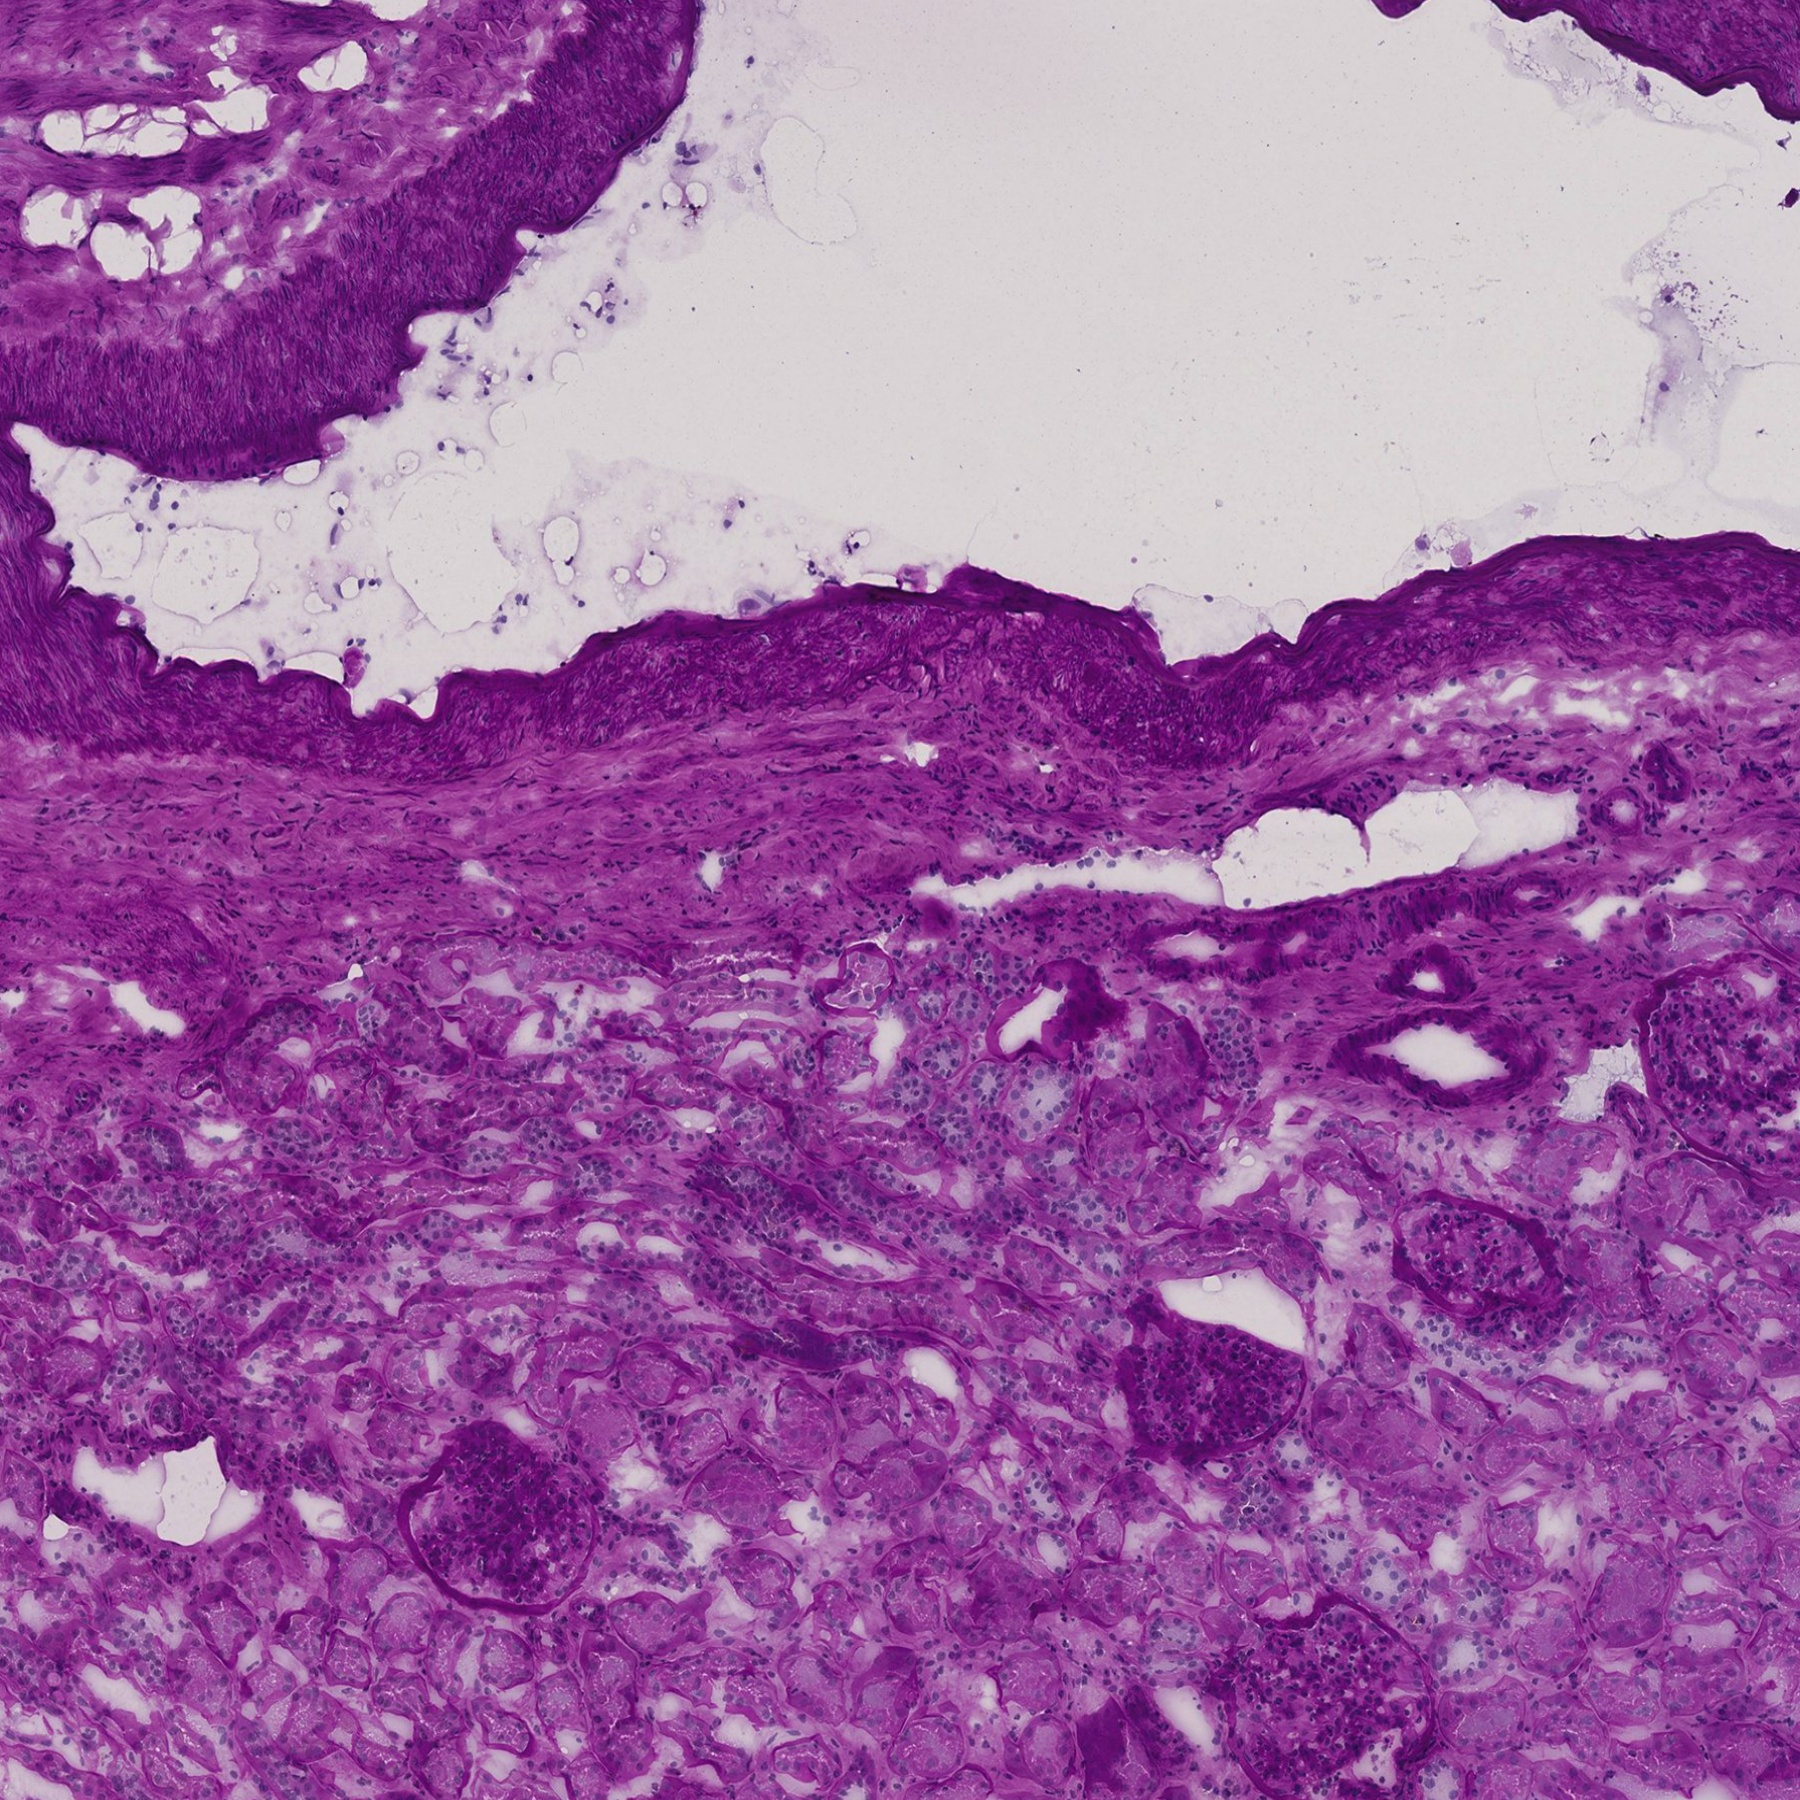Glomeruli: (1231, 1584, 1444, 1800), (399, 1418, 602, 1619), (1638, 948, 1800, 1182), (1127, 1269, 1314, 1460), (1395, 1188, 1554, 1320)
